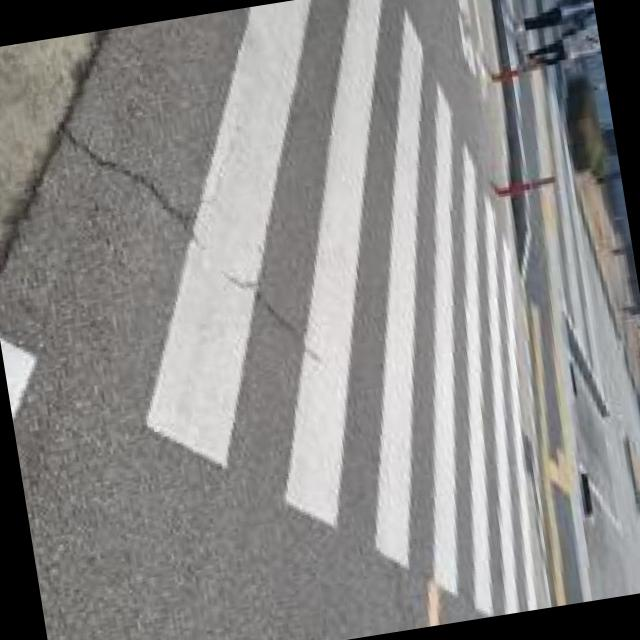zebra: (106, 0, 541, 619)
